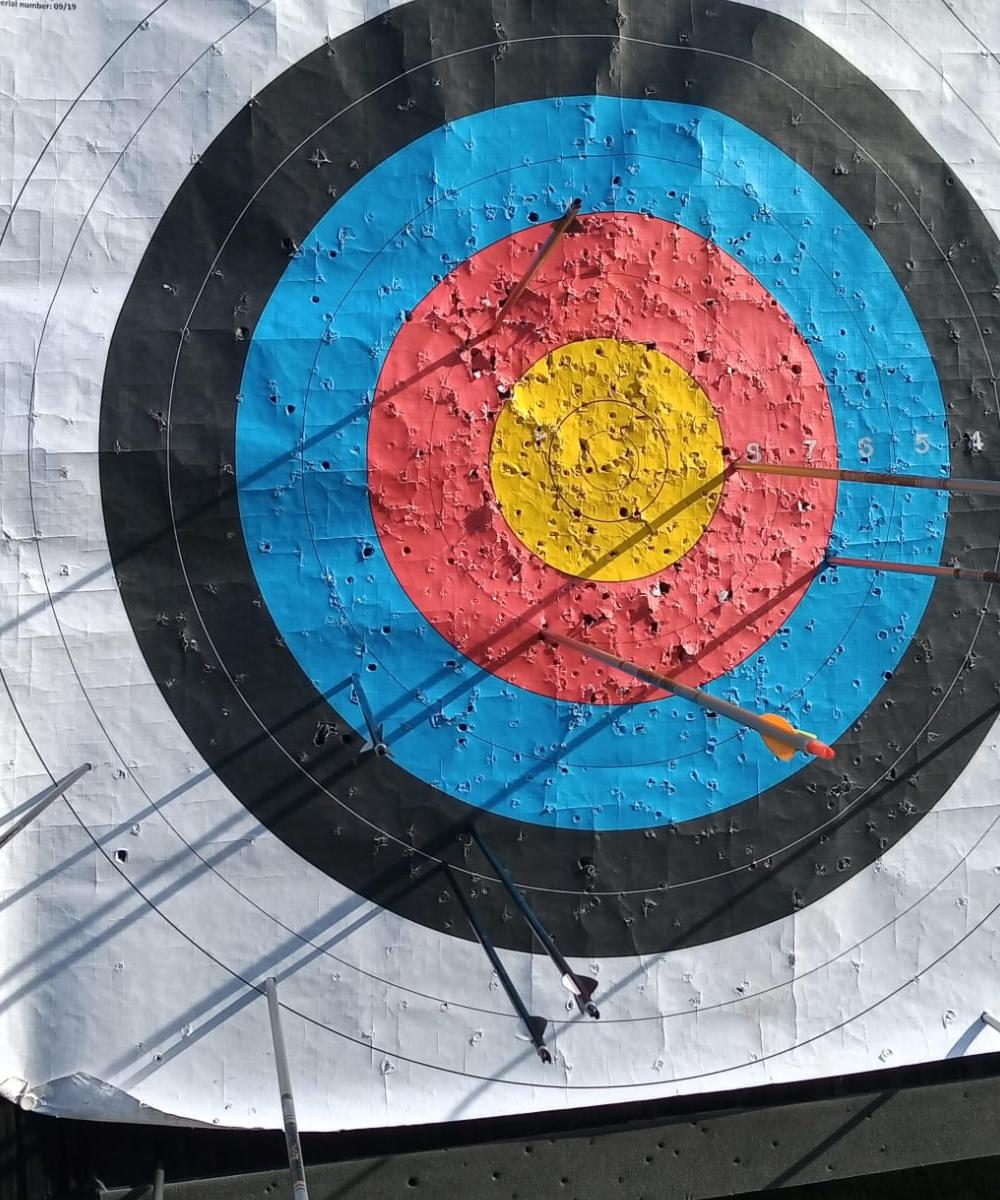1-Ring: (0, 0, 1000, 1089)
10-Ring: (525, 377, 693, 545)
2-Ring: (27, 0, 1000, 1024)
3-Ring: (97, 0, 1000, 960)
4-Ring: (167, 33, 994, 895)
5-Ring: (237, 97, 947, 832)
6-Ring: (301, 154, 886, 769)
7-Ring: (368, 214, 837, 706)
8-Ring: (400, 252, 804, 669)
9-Ring: (487, 340, 727, 583)
Arrow: (534, 618, 841, 778), (451, 824, 616, 1024), (418, 863, 567, 1072), (263, 978, 308, 1200), (330, 673, 397, 770)
